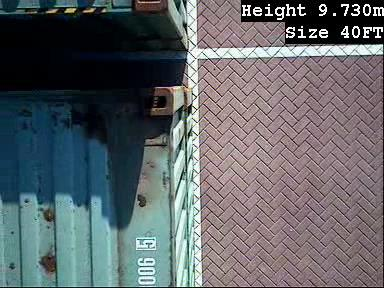groundmarker_2: (176, 152, 224, 218)
